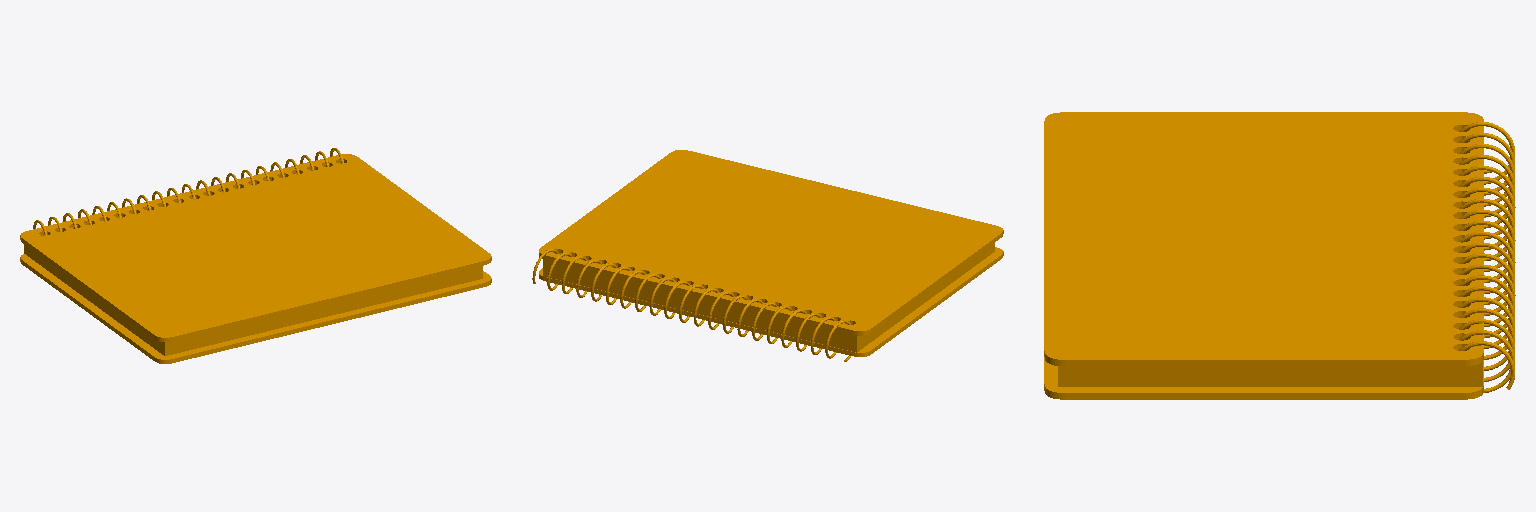
The robot description file, URDF, robot "notebook_10":
<?xml version='1.0' encoding='utf-8'?>
<robot name="notebook_10">
        <link name="link_0">
            <visual>
                <origin xyz="0.0 0.0 0.0" rpy="1.5707963267948966 0.0 0.0" />
                <geometry>
                    <mesh filename="textured_objs/textured.obj" scale="1 1 1.0" />
                </geometry>
            </visual>
            <collision>
                <origin xyz="0.0 0.0 0.0" rpy="1.5707963267948966 0.0 0.0" />
                <geometry>
                    <mesh filename="textured_objs/collision.obj" scale="1 1 1.0" />
                </geometry>
            </collision>
            <inertial>
                <mass value="0.1" />
                <inertia ixx="0.0001" ixy="0.0" ixz="0.0" iyy="0.0001" iyz="0.0" izz="0.0001" />
            </inertial>
        </link>
    </robot>

--- Facts derived from the render (not from the file) ---
Views: 3 orthographic renders of the robot side by side, from view 1: azimuth 30°, elevation 25°; view 2: azimuth 150°, elevation 25°; view 3: azimuth 270°, elevation 25°.
Model notebook_10 with 1 links and 0 joints (none), rooted at link_0, posed all joints at 0.
Links seen in each view (by area): view 1: link_0; view 2: link_0; view 3: link_0.
Boxes of the visible links, x1,y1,x2,y2 form: link_0: [20, 148, 491, 363]; link_0: [532, 150, 1003, 361]; link_0: [1044, 112, 1515, 399].
Size in the robot's own frame: 7.87 by 6.33 by 0.8465 metres.
Meshes: 1 distinct files referenced, 1 mesh visuals loaded (1 OBJ).